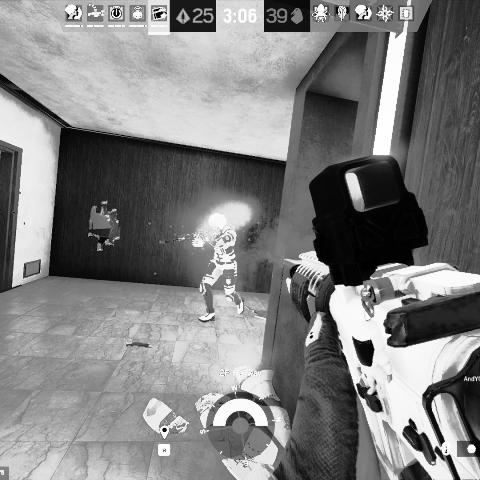Character: (164, 211, 247, 325)
Head: (207, 212, 227, 232)
